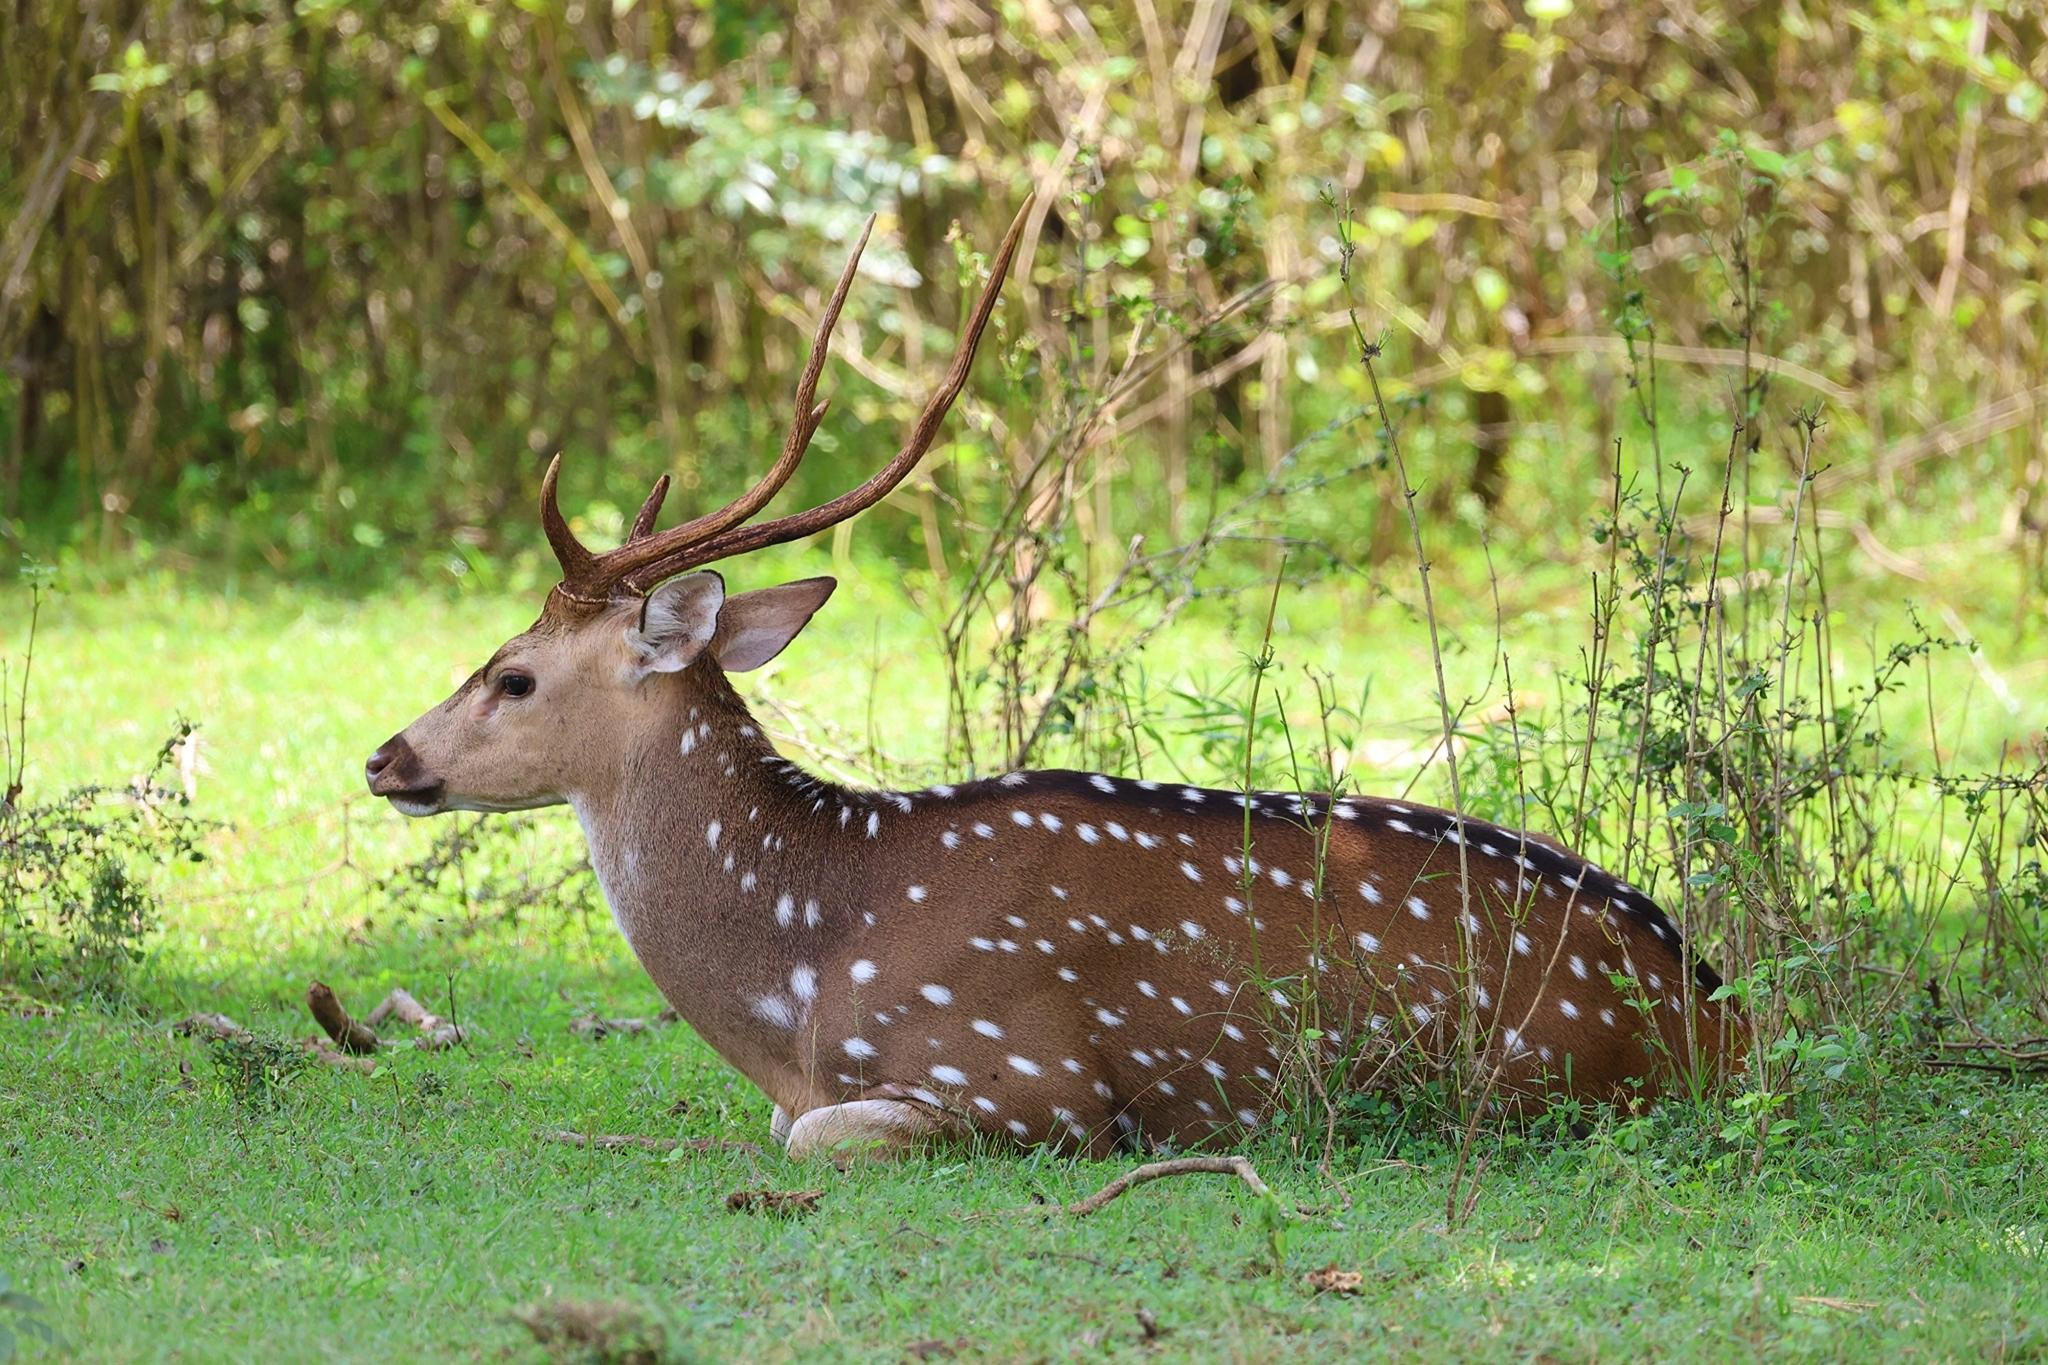Deer: (365, 213, 1731, 1158)
